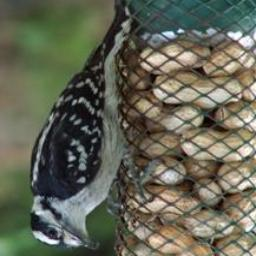Woodpecker: (13, 0, 158, 255)
